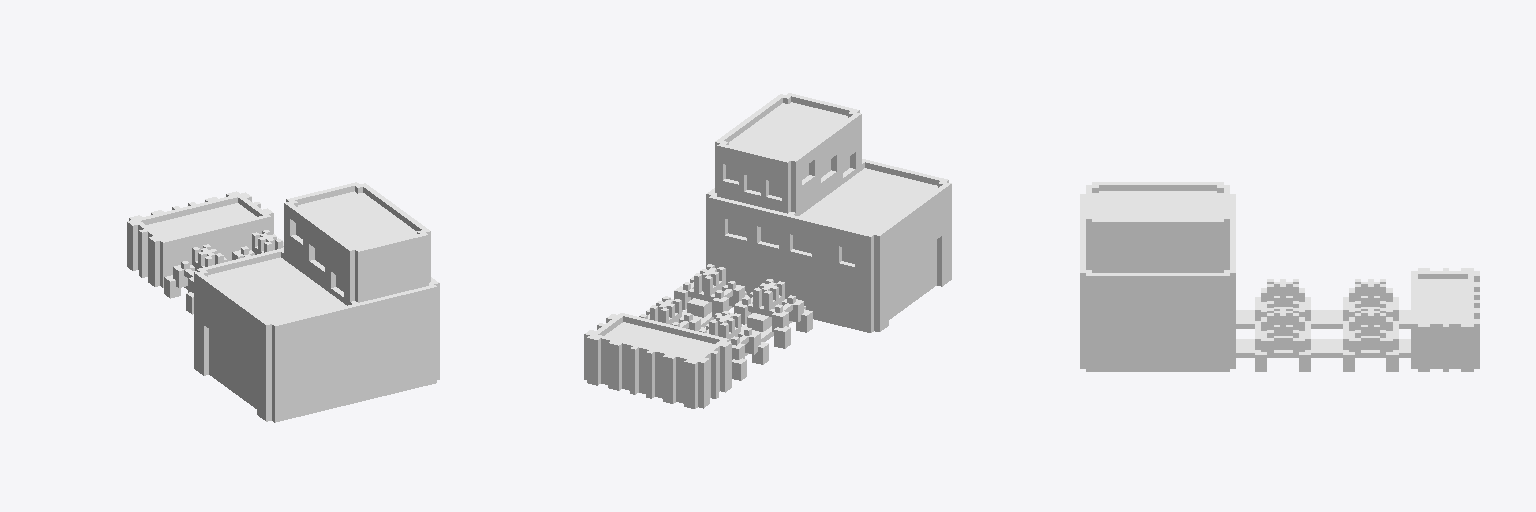
Rendered from workshop_mechanical.obj.
3 views of the same model, side by side, from view 1: azimuth 30°, elevation 25°; view 2: azimuth 150°, elevation 25°; view 3: azimuth 270°, elevation 25° (orthographic).
Parts seen in each view (by area): view 1: object 1; view 2: object 1; view 3: object 1.
Boxes of the visible parts, x1=… form: object 1: x1=127, y1=182, x2=439, y2=422; object 1: x1=584, y1=93, x2=951, y2=408; object 1: x1=1080, y1=182, x2=1479, y2=371.
Bounding box in the file's own units: 3.2 × 2.6 × 6.4.